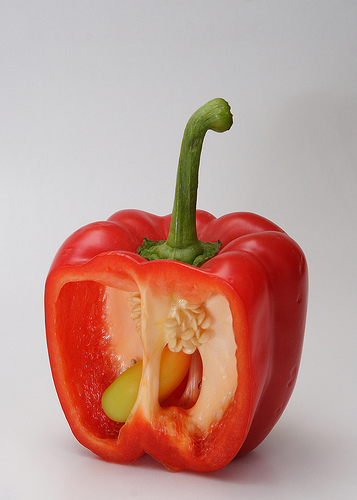capsicum: (42, 97, 309, 475)
